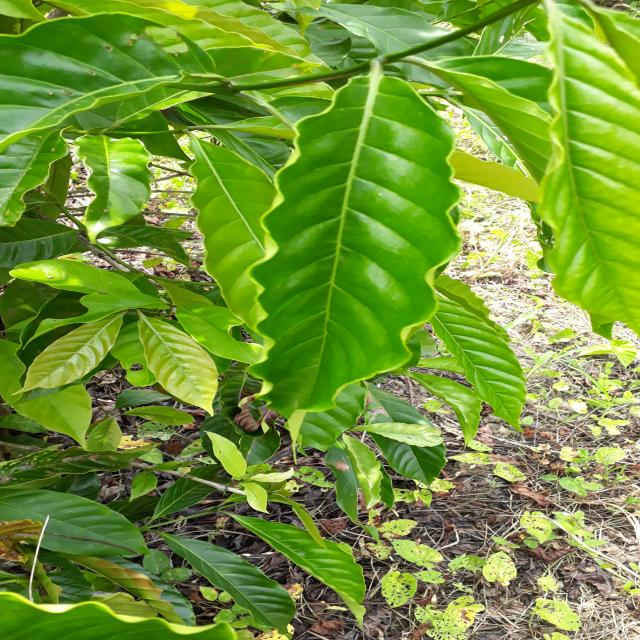Sanas: (250, 65, 461, 420)
